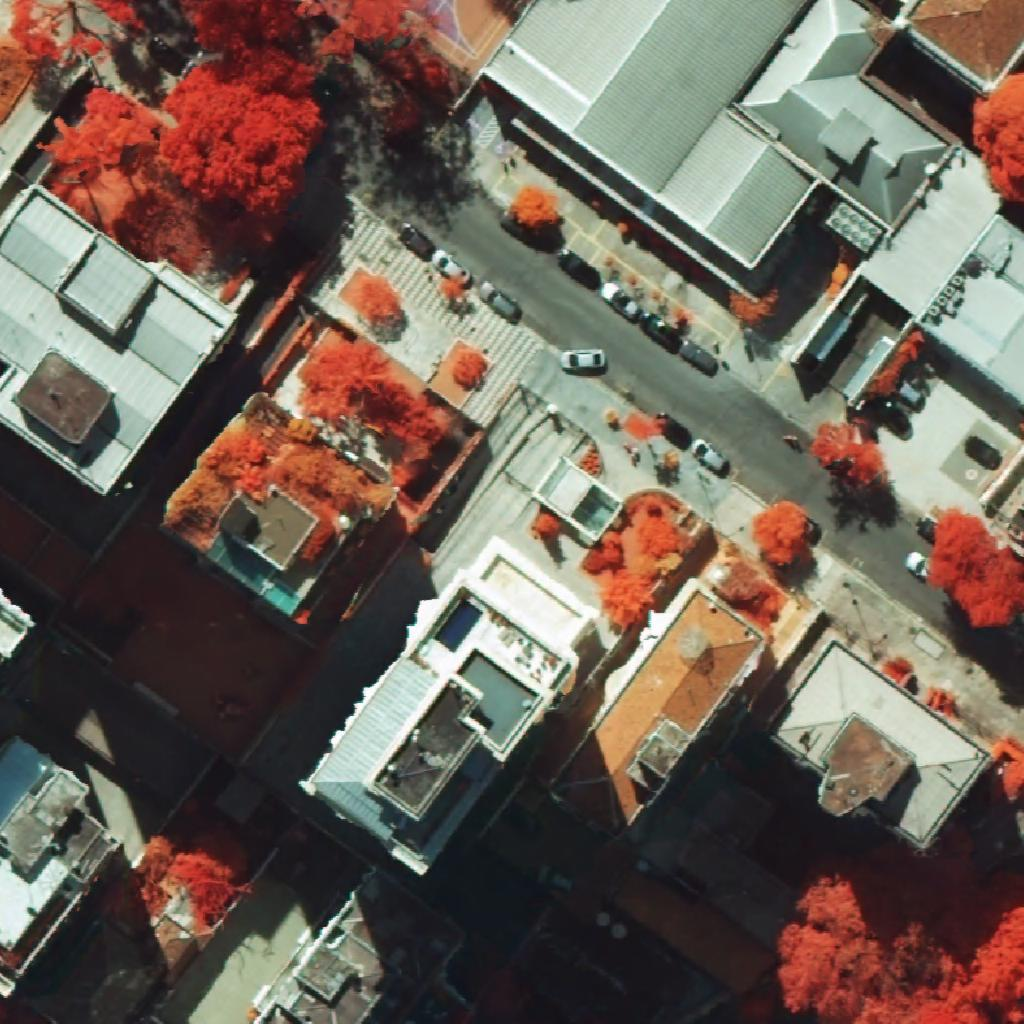pool: (434, 599, 483, 652)
